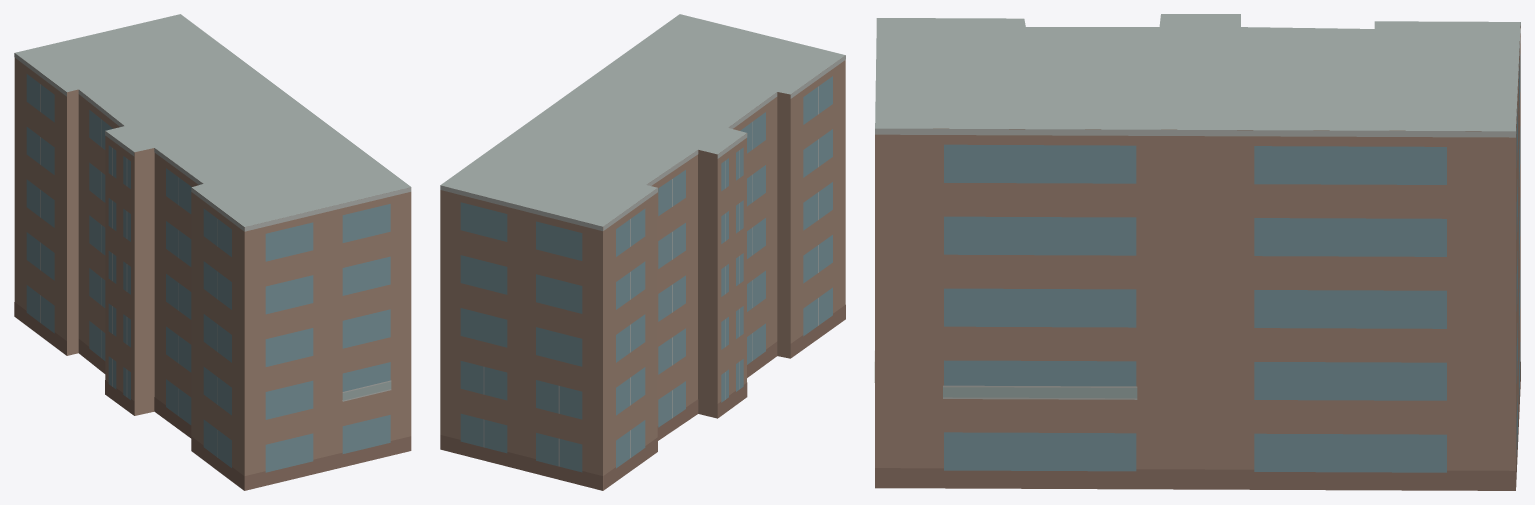
Rendered from survey-upis-32577396.glb.
3 views of the same model, side by side, from view 1: azimuth 30°, elevation 25°; view 2: azimuth 150°, elevation 25°; view 3: azimuth 270°, elevation 25° (orthographic). The views are drawn at different scales.
Parts seen in each view (by area): view 1: survey-upis-32577396.tmp; view 2: survey-upis-32577396.tmp; view 3: survey-upis-32577396.tmp.
Boxes of the visible parts, x1,y1,x2,y2 form: survey-upis-32577396.tmp: (14, 14, 411, 490); survey-upis-32577396.tmp: (440, 14, 845, 490); survey-upis-32577396.tmp: (874, 14, 1520, 490).
Bounding box in the file's own units: 9.84 × 14.05 × 22.9.
